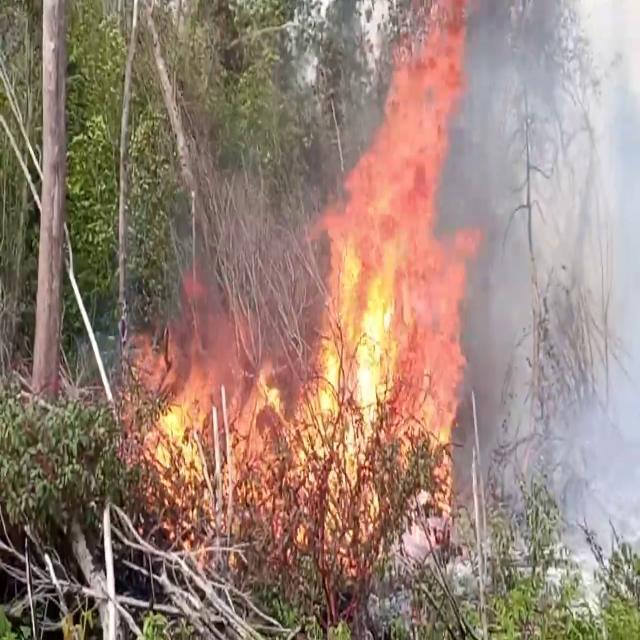Fire: (308, 20, 477, 514), (133, 274, 309, 522)
Smoke: (424, 1, 640, 572)
